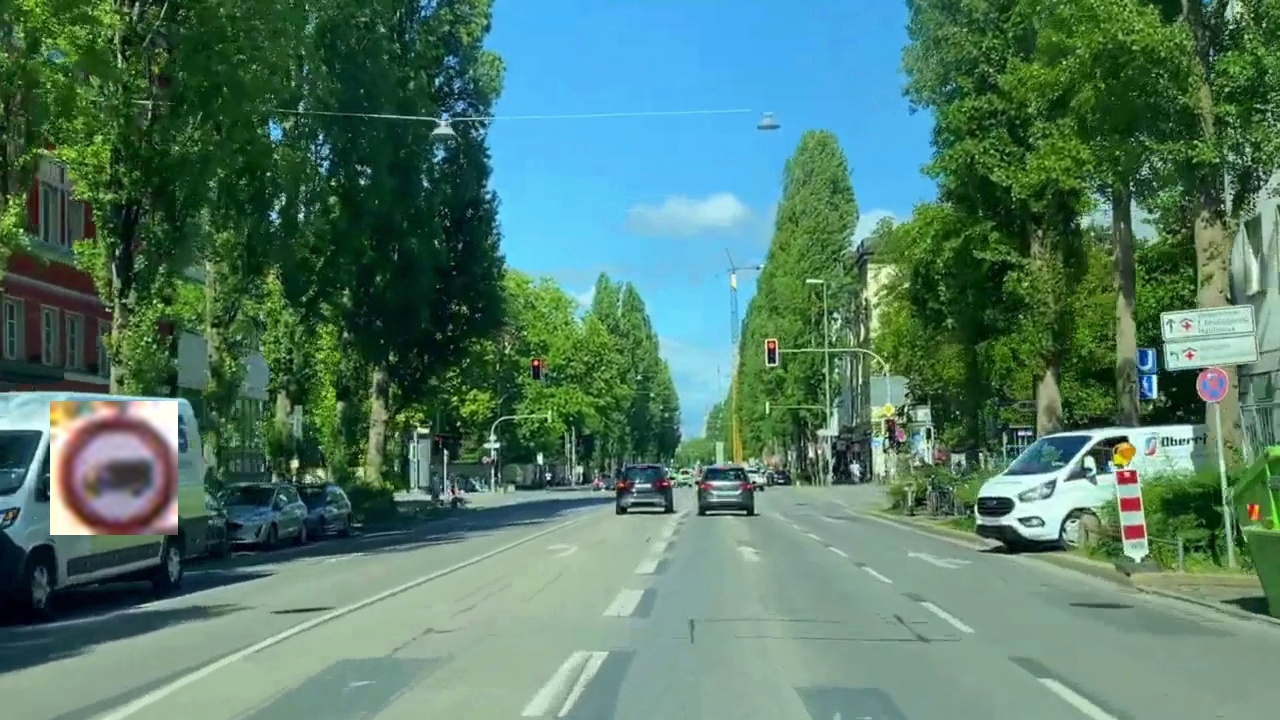Veh >3.5t prohib: (50, 401, 178, 535)
